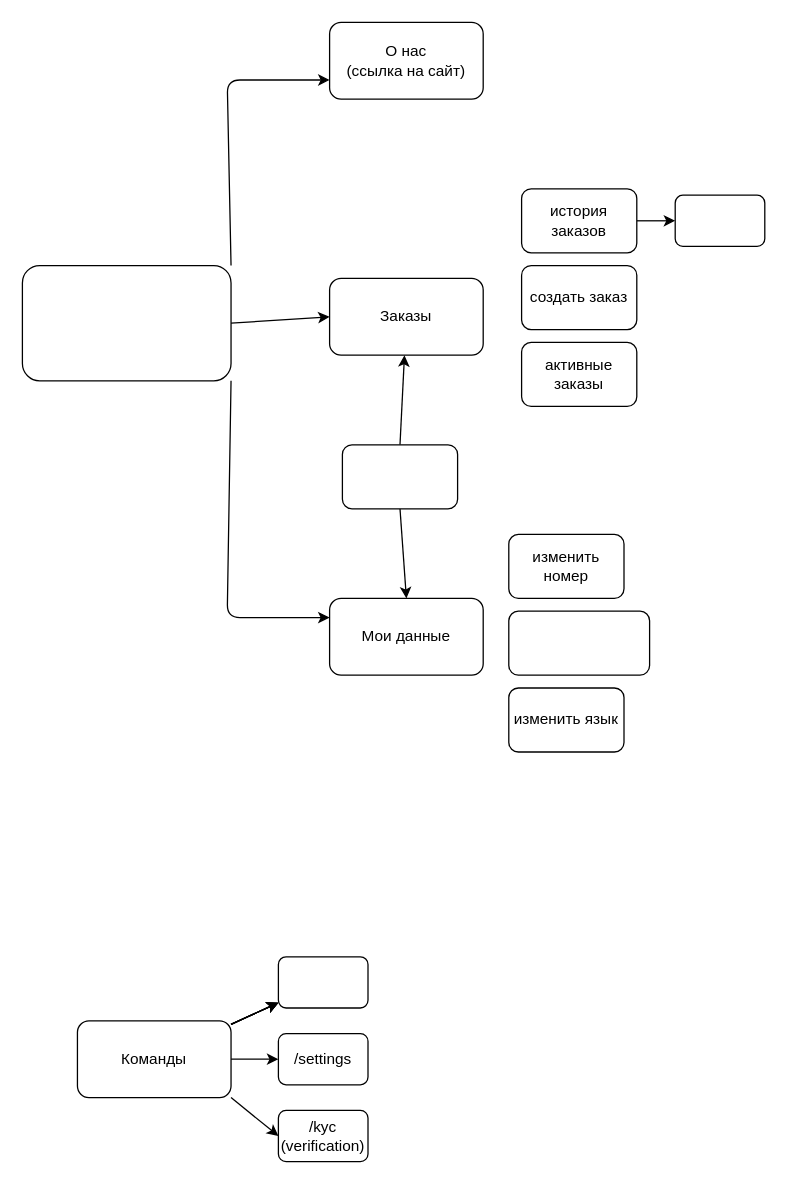
The diagram is 787 pixels wide and 1184 high, and some of its shapes have lost their labels. The shapes that lost their labels are listed below. From the top down, each one's box as (x1, y1, x2, y2) in pixels, then its label:
(674, 194, 765, 246): пагинация
(21, 264, 231, 381): Язык
(341, 444, 458, 509): назад
(508, 610, 650, 675): изменить (Имя, Фамилия)
(277, 956, 368, 1008): /add_order
